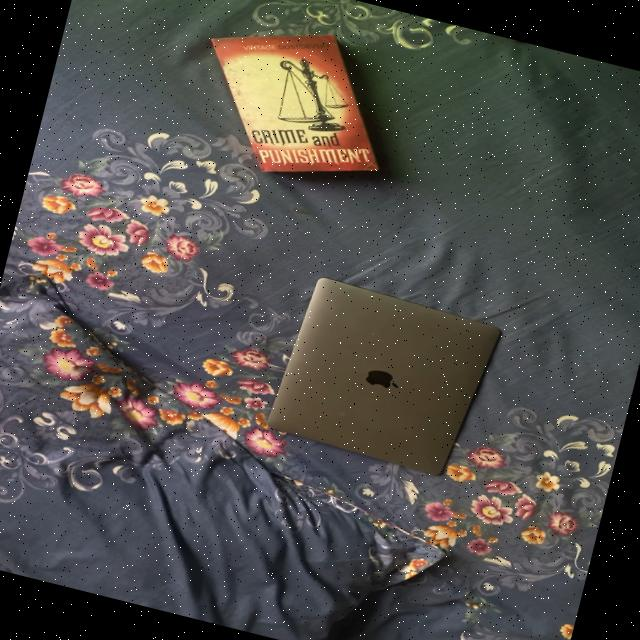book: (174, 5, 416, 200)
laptop: (223, 245, 514, 500)
